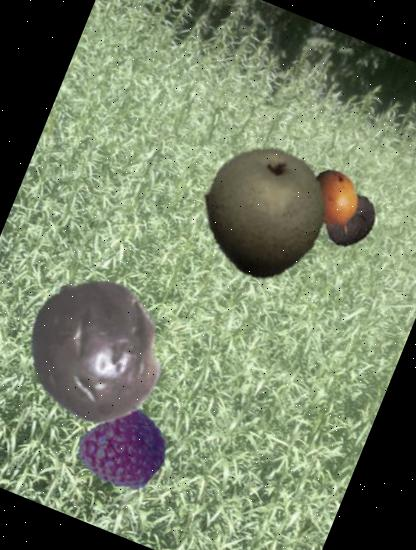Cocos: (313, 184, 387, 258)
Granadilla: (290, 160, 376, 246)
Passion: (0, 256, 194, 448)
Pear: (178, 126, 352, 300)
Raspberry: (71, 396, 178, 503)
